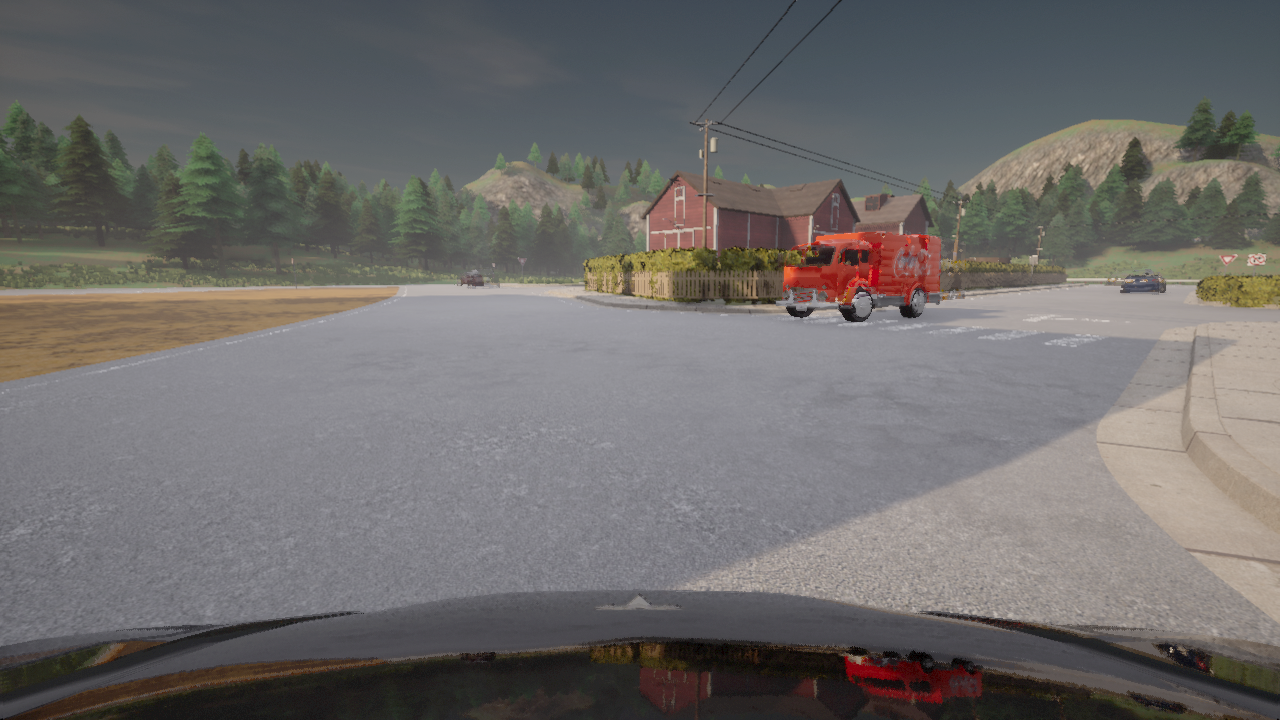cyclist: (0, 588, 1279, 719), (775, 230, 940, 322), (1121, 270, 1168, 292), (456, 270, 482, 286)
